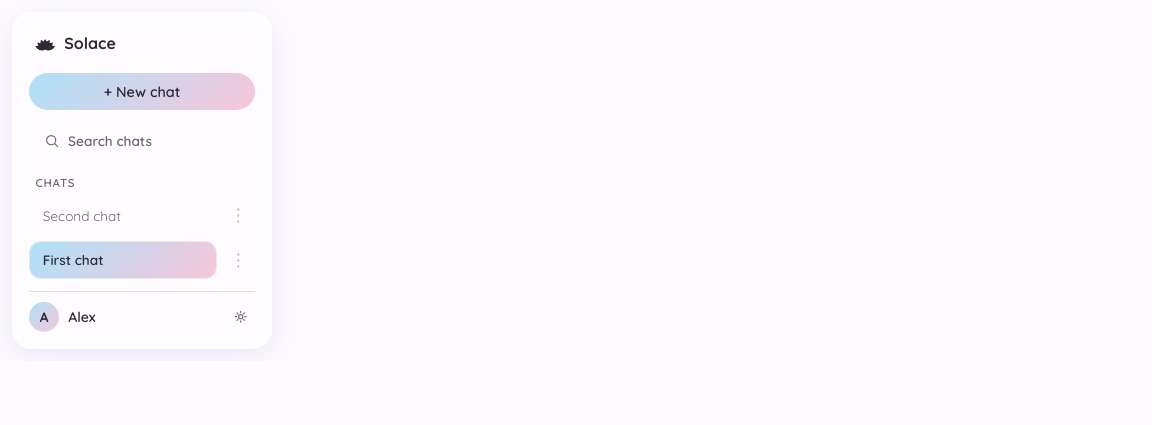
Test: Sidebar › options menu › closes the menu when clicking outside of it
Click the button named "Options for First chat" at (238, 260), box [221,246,255,273]
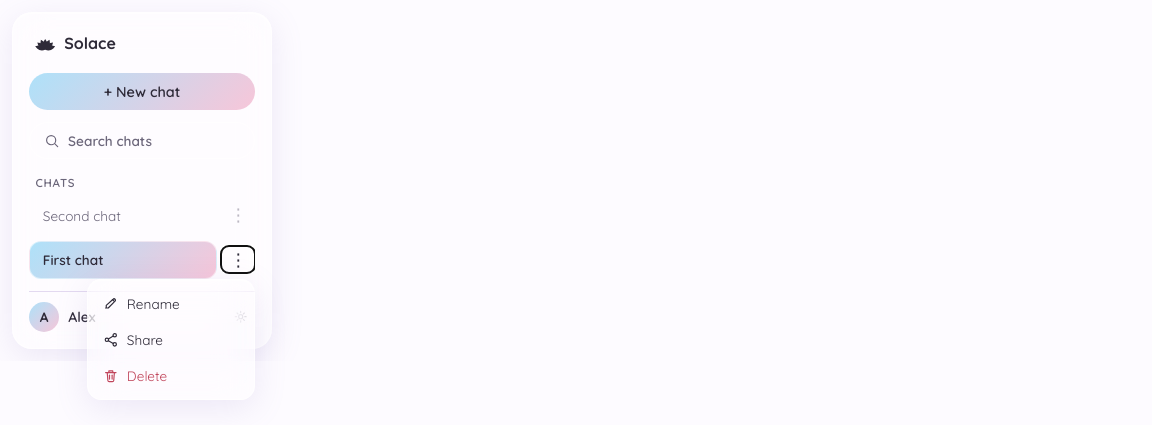
Expected: the menu is shown, [87,279,255,400]
Click the element that starts with "Solace" at (576, 180), box [0,0,1151,361]
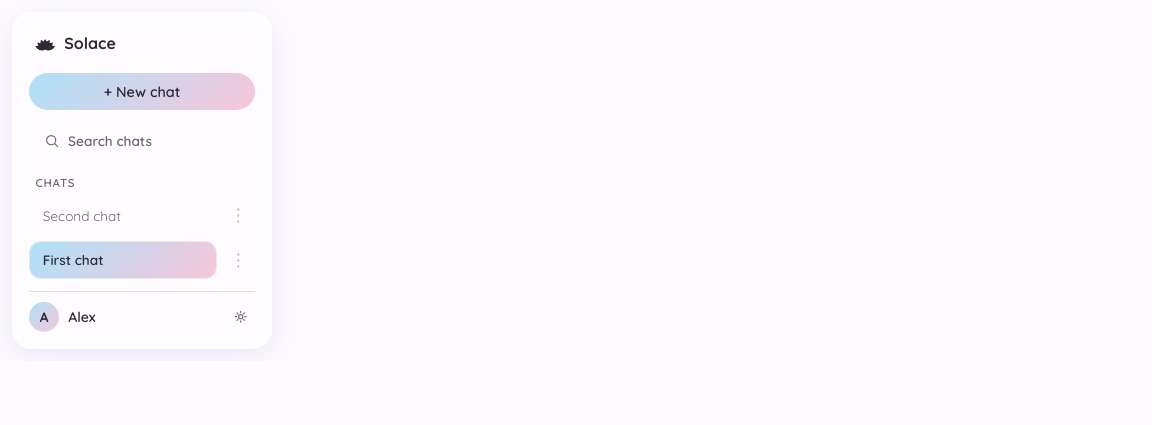
Expected: the menu is gone
